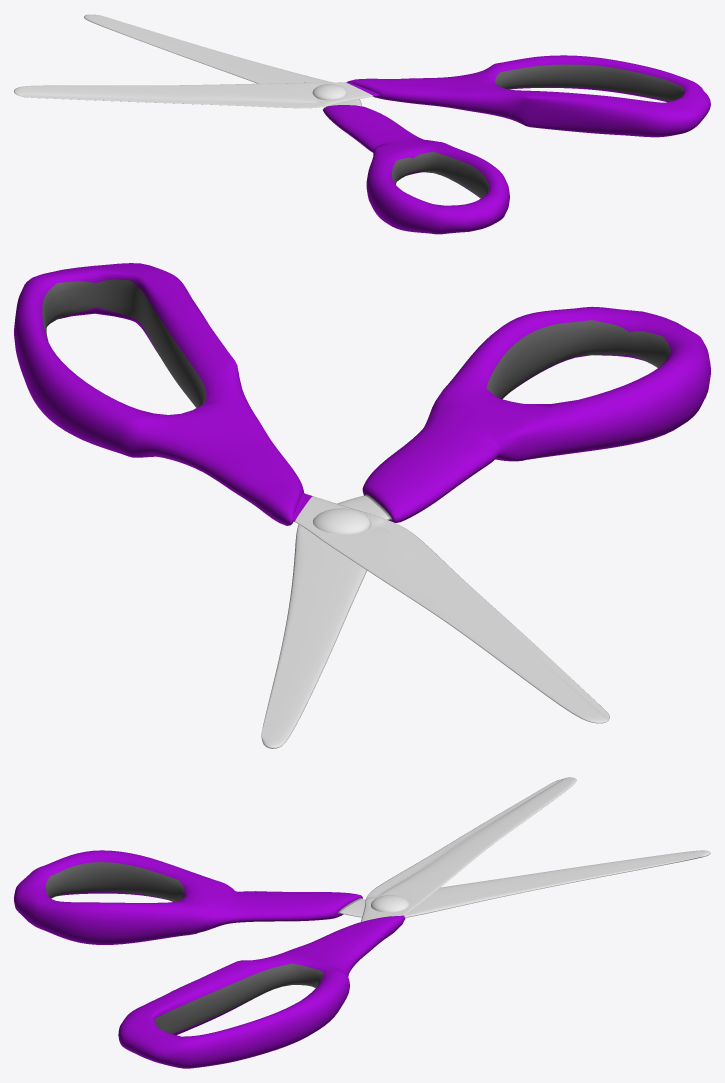
File: tijeras.FBX
3 views of the same model, one above another, from view 1: azimuth 30°, elevation 25°; view 2: azimuth 150°, elevation 25°; view 3: azimuth 270°, elevation 25° (orthographic). The views are drawn at different scales.
Parts seen in each view (by area): view 1: Box01, Box02, Sphere01; view 2: Box01, Box02, Sphere01; view 3: Box01, Box02, Sphere01.
Boxes of the visible parts, x1=… form: Box01: x1=14, y1=55, x2=710, y2=137; Box02: x1=84, y1=14, x2=509, y2=234; Sphere01: x1=312, y1=84, x2=347, y2=100; Box01: x1=14, y1=263, x2=609, y2=723; Box02: x1=261, y1=306, x2=710, y2=748; Sphere01: x1=313, y1=508, x2=371, y2=534; Box01: x1=118, y1=777, x2=576, y2=1068; Box02: x1=14, y1=850, x2=710, y2=944; Sphere01: x1=371, y1=895, x2=409, y2=912.
Size of the model in its own units: 349 by 23.48 by 366.
